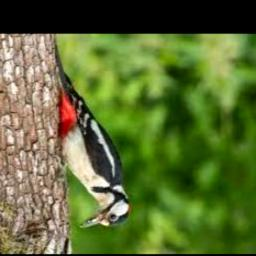Woodpecker: (54, 40, 131, 228)
